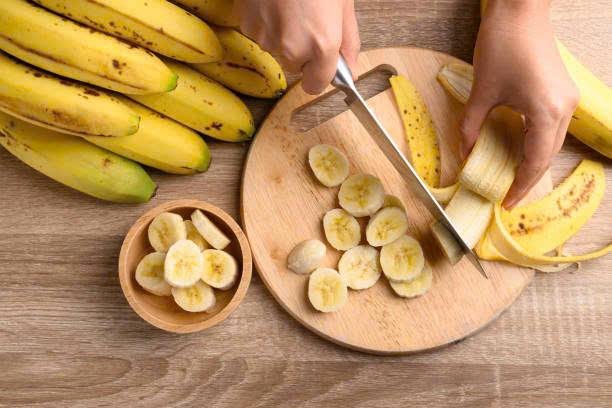banana: (0, 0, 277, 197), (367, 220, 430, 293), (168, 225, 209, 300), (307, 144, 355, 194)
